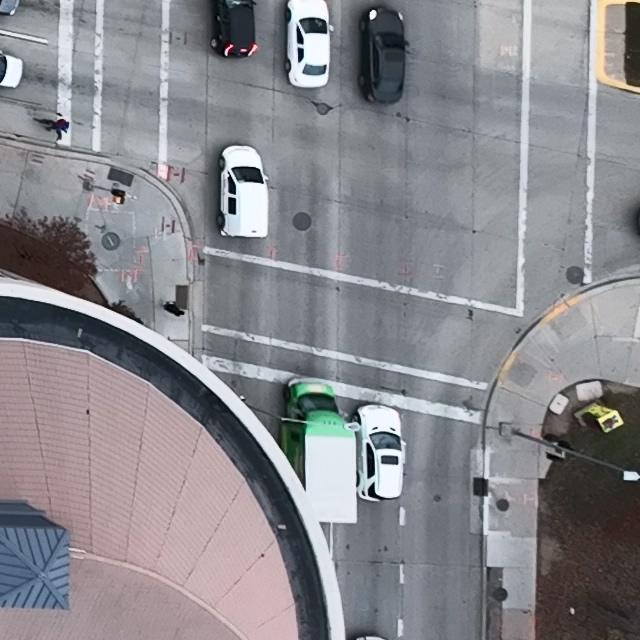car: (279, 378, 357, 524), (216, 144, 270, 239), (360, 6, 410, 105), (352, 405, 403, 501), (283, 0, 335, 88), (210, 0, 257, 59), (0, 50, 23, 88)
